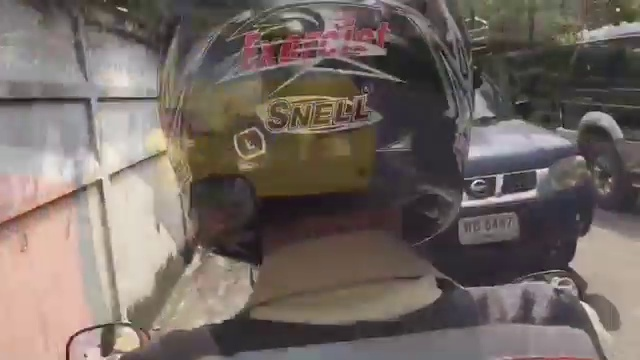helmet: (140, 0, 499, 254)
